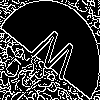W: (25, 24, 81, 90)
